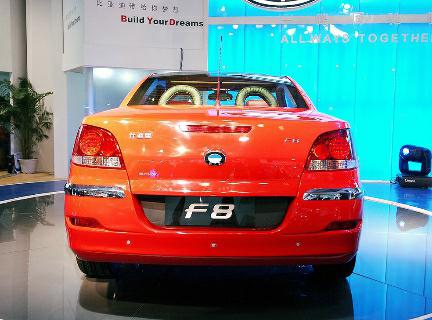比亚迪-S8: (62, 63, 371, 287)
